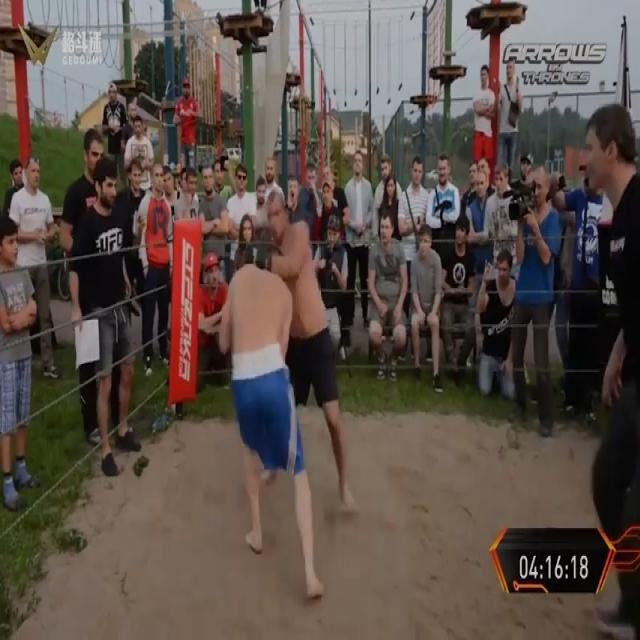fight: (211, 203, 352, 605)
non-fight: (588, 96, 639, 639), (8, 152, 58, 375), (398, 156, 430, 354), (341, 150, 375, 334)
